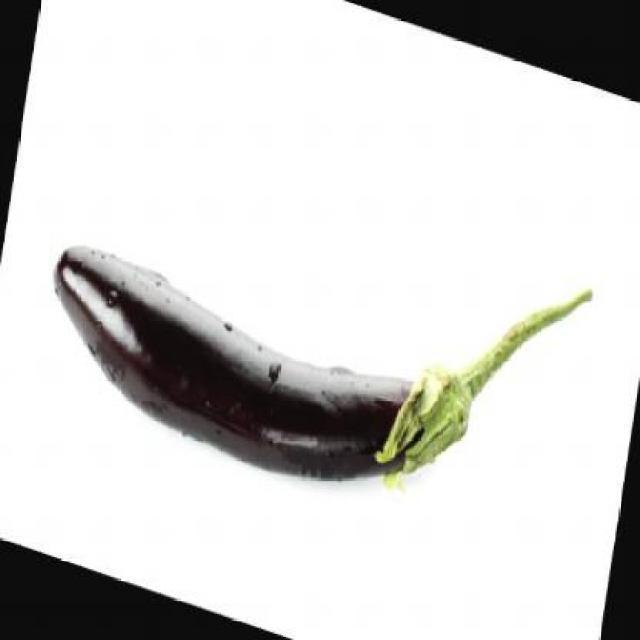eggplant: (52, 235, 600, 488)
